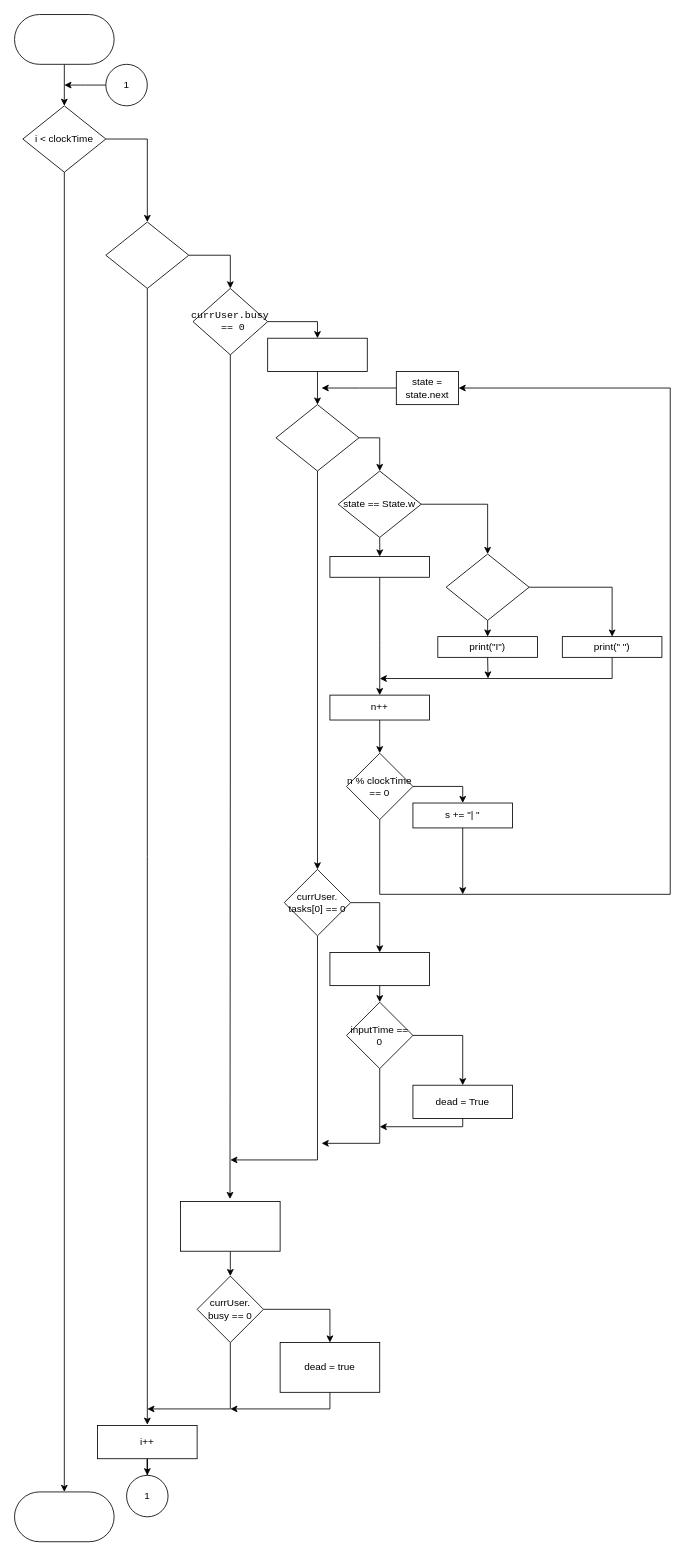
Image size: 691x1556. Some labels were removed from this diagram. Here are the shapes that lost their labels. From the top down, the centre of each, then its label:
[64,39]: Начало
[147,254]: !dead
[317,354]: logger.log (0, State.E)
[317,437]: state in data[u]
[379,566]: print("_")
[487,586]: state == State.I
[379,969]: currUser.tasks. removeAt(0)
[230,1226]: logger.log (curruser.Id, State.I)
[64,1516]: Конец
